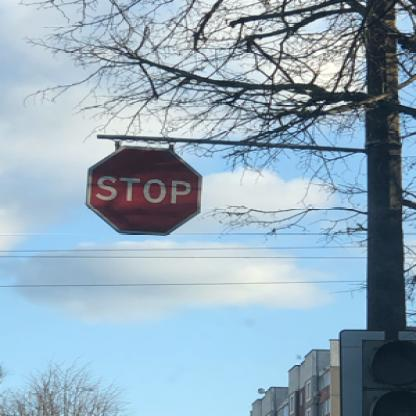stop: (83, 144, 201, 235)
trafficlight: (358, 337, 414, 413)
